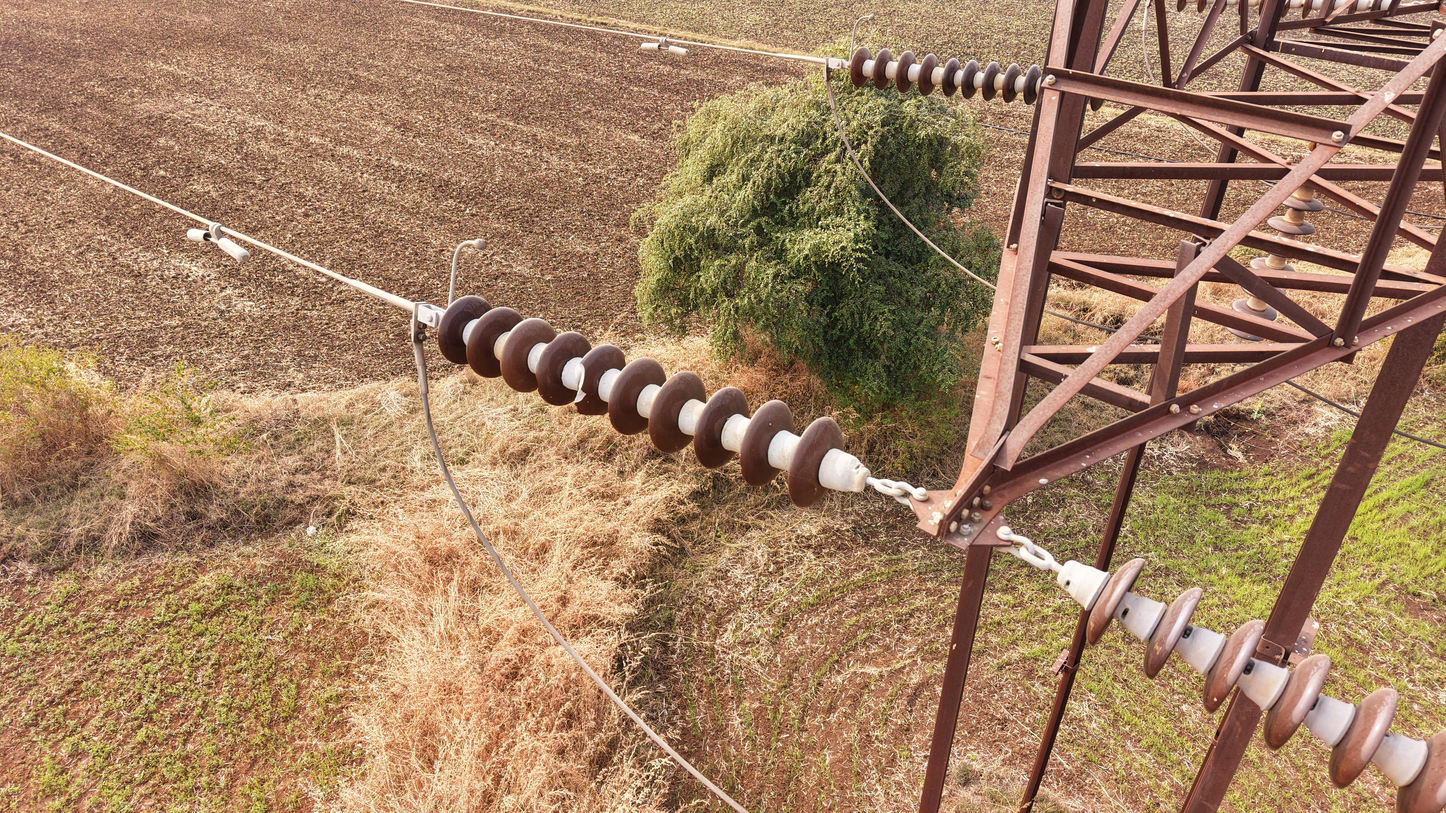broken_insulator: (571, 339, 614, 420)
